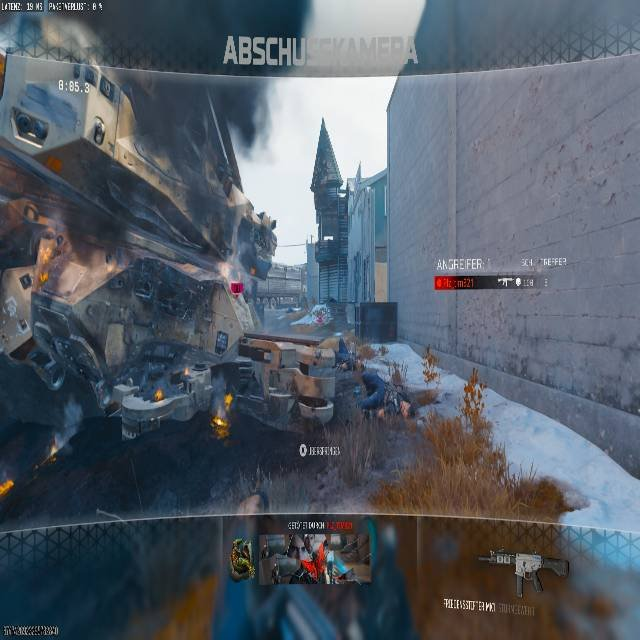head: (398, 400, 412, 418)
player: (224, 206, 280, 308)
